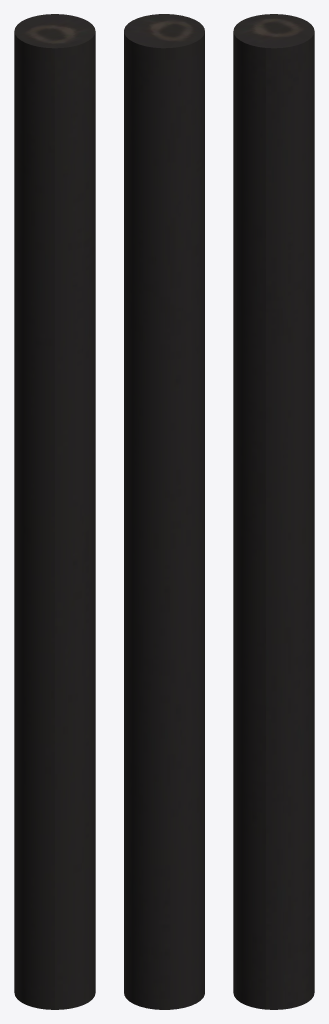
The model's file is frame__front_crossbar.glb.
3 renders of one model, left to right at view 1: azimuth 90°, elevation 25°; view 2: azimuth 210°, elevation 25°; view 3: azimuth 270°, elevation 25°, orthographic.
Visible parts, largest first — view 1: world; view 2: world; view 3: world.
Part boxes in pixels (x1,y1,x2,y2): world: (14,14,95,1009); world: (124,14,204,1009); world: (233,14,314,1009).
Bounding box in the file's own units: 0.052 × 0.68 × 0.052.
1 material, 1 textured.
